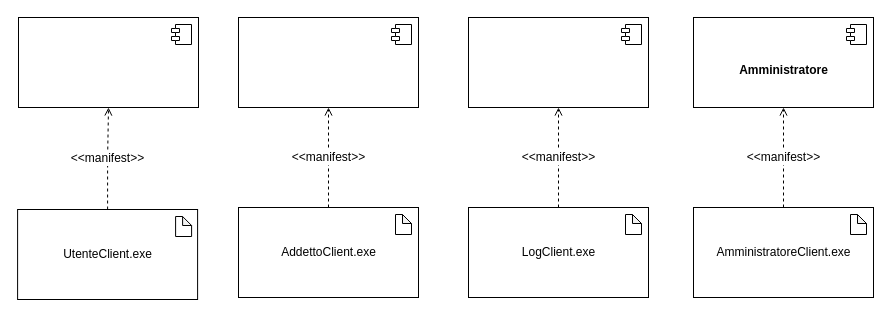
The diagram is 891 pixels wide and 317 high, and some of its shapes have lost their labels. Here are the shapes that lost their labels. From the top down, the centre of each, then its label:
At point 108,62: "Utente".
At point 328,62: "Addetto".
At point 558,62: "Log".
